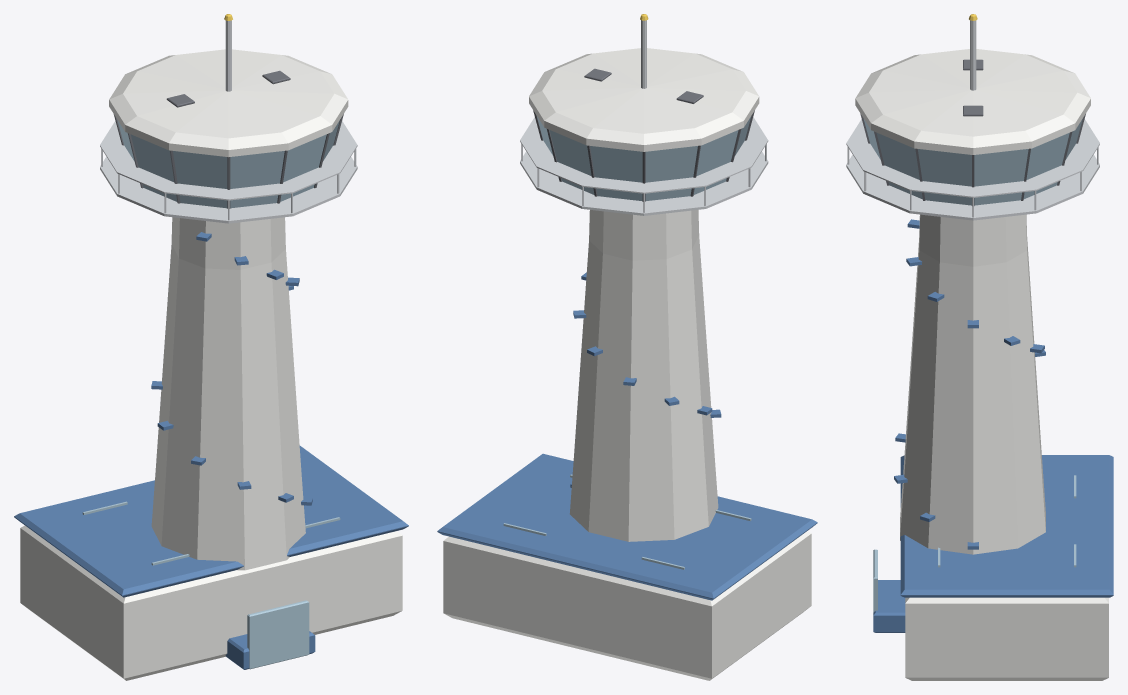
Rendered from control_tower.glb.
The picture shows the model from 3 angles, left to right: view 1: azimuth 30°, elevation 25°; view 2: azimuth 150°, elevation 25°; view 3: azimuth 270°, elevation 25°; orthographic projection. The views are drawn at different scales.
Visible parts, largest first — view 1: control-tower; view 2: control-tower; view 3: control-tower.
Part boxes in pixels (bbox=[...]): control-tower: bbox=[14, 14, 408, 680]; control-tower: bbox=[437, 14, 817, 680]; control-tower: bbox=[846, 14, 1113, 680].
Bounding box in the file's own units: 14.4 × 29.32 × 11.8.
Materials: 1 (1 with a texture image).
